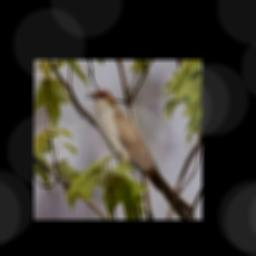Cuckoo: (85, 89, 196, 220)
